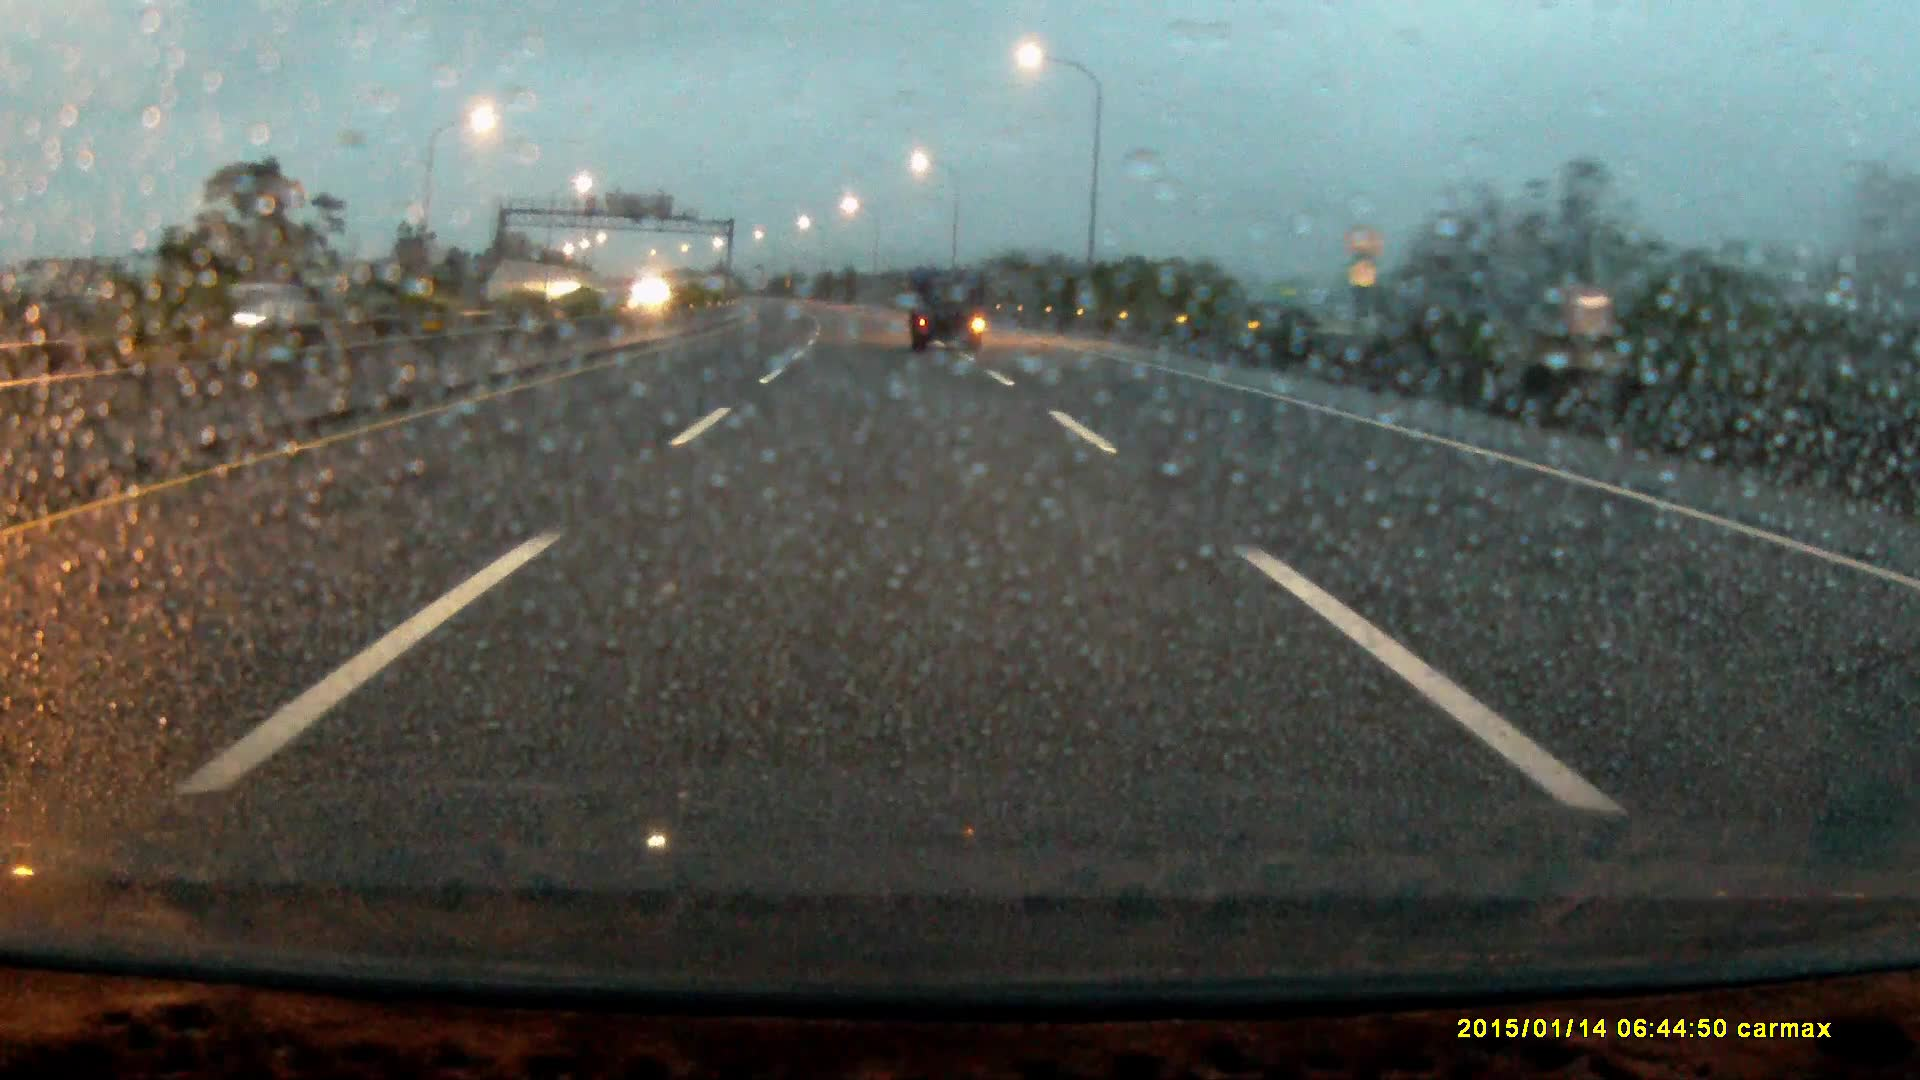vehicle: (909, 272, 986, 355)
